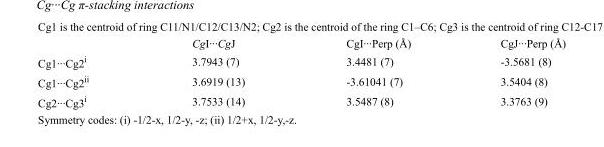table: (37, 36, 565, 108)
table column: (294, 36, 454, 108), (139, 36, 294, 108), (454, 36, 565, 108), (37, 36, 139, 108)
table column header: (37, 36, 565, 51)
table row: (37, 51, 565, 71), (37, 71, 565, 91), (37, 91, 565, 108), (37, 36, 565, 51)
